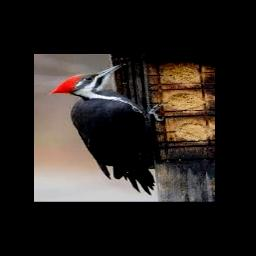Woodpecker: (49, 63, 165, 195)
